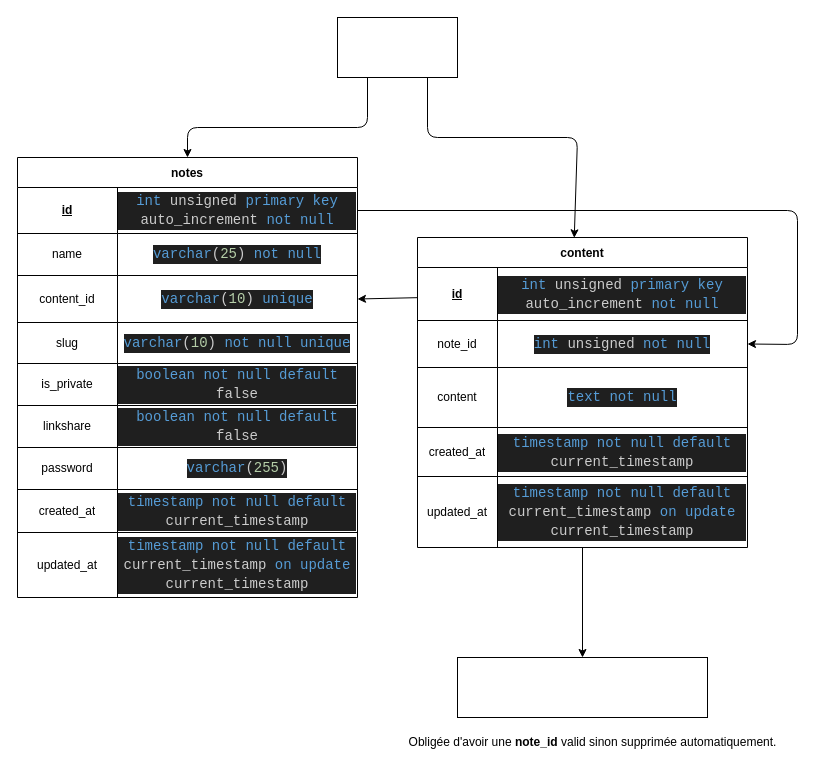
The diagram is 823 pixels wide and 775 high, and some of its shapes have lost their labels. The centre of each missing label's shape, as x and y in pixels:
"foreign key (note_id) references notes(id) on delete cascade" goes at point (582, 687).
"Tables" goes at point (397, 47).
